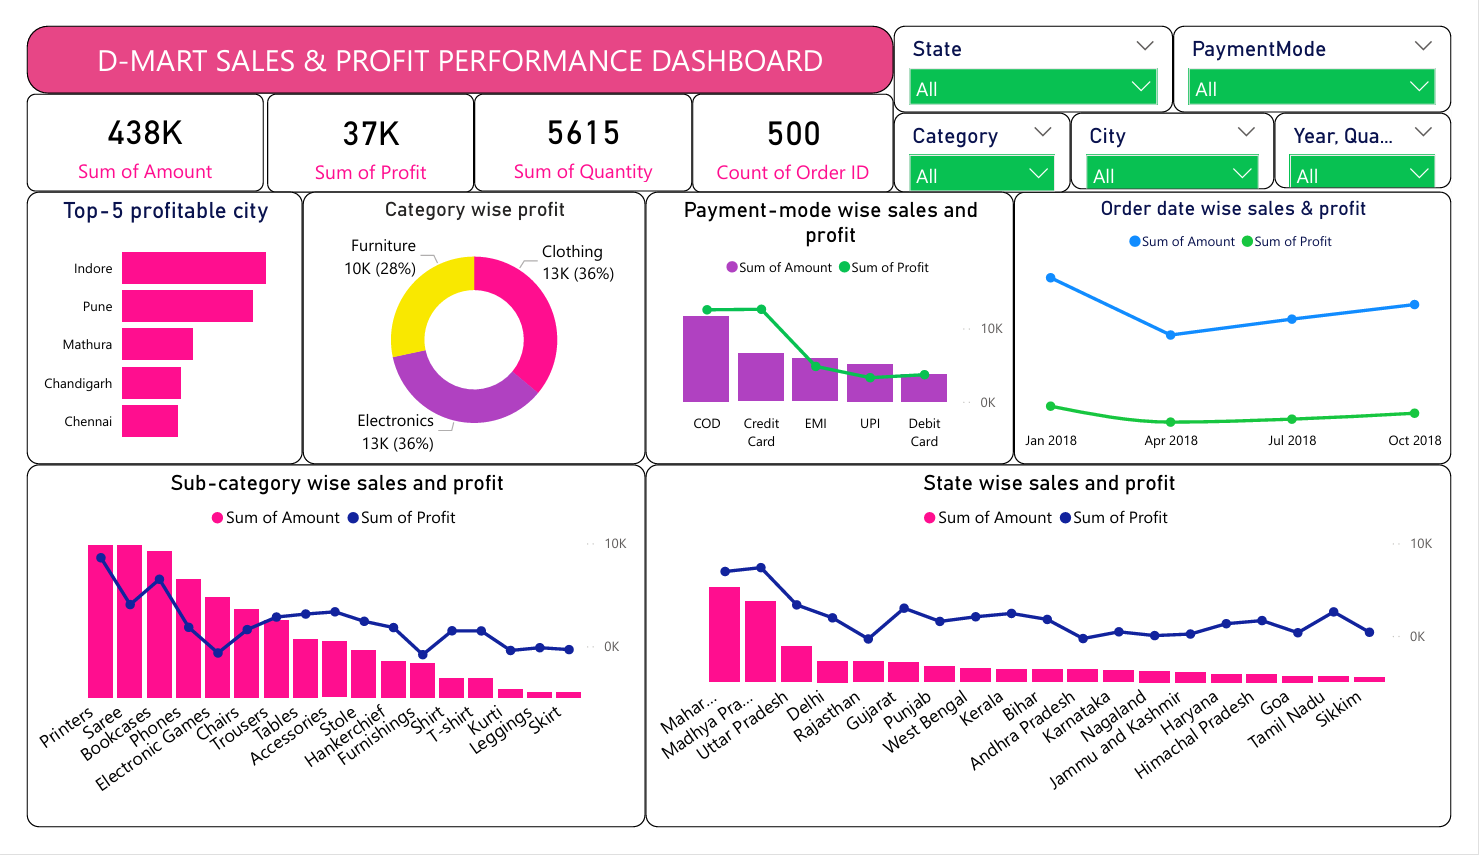

Layout of this report page (visuals, bound fields, positions):
{"tool":"powerbi","page":{"name":"DASHBOARD","canvas":[1280,720],"ordinal":0},"visuals":[{"type":"lineClusteredColumnComboChart","title":"State wise sales and profit","fields":{"Category":["Order_data.State"],"Y":["Sum(Sales_data.Amount)"],"Y2":["Sum(Sales_data.Profit)"]},"box":[556.4,393.8,723.9,326.5],"z":0},{"type":"lineChart","title":"Order date wise sales & profit","fields":{"Y":["Sum(Sales_data.Amount)","Sum(Sales_data.Profit)"],"Category":["Order_data.Order Date.Variation.Date Hierarchy.Year","Order_data.Order Date.Variation.Date Hierarchy.Quarter","Order_data.Order Date.Variation.Date Hierarchy.Month"]},"box":[886.6,149.2,393.8,244.6],"z":1000},{"type":"card","fields":{"Values":["Sum(Sales_data.Profit)"]},"box":[216.4,61.1,185.9,89.3],"z":2000},{"type":"card","fields":{"Values":["Sum(Sales_data.Amount)"]},"box":[0,61.1,212.8,88],"z":3000},{"type":"card","fields":{"Values":["Sum(Sales_data.Quantity)"]},"box":[402.3,61.1,195.7,88],"z":4000},{"type":"card","fields":{"Values":["CountNonNull(Order_data.Order ID)"]},"box":[598,61.1,181,89.3],"z":5000},{"type":"slicer","fields":{"Values":["Order_data.State"]},"box":[778.9,0,250.7,78.3],"z":6000},{"type":"slicer","fields":{"Values":["Order_data.City"]},"box":[937.9,78.3,183.4,68.5],"z":7000},{"type":"slicer","fields":{"Values":["Order_data.Order Date.Variation.Date Hierarchy.Year","Order_data.Order Date.Variation.Date Hierarchy.Quarter","Order_data.Order Date.Variation.Date Hierarchy.Month"]},"box":[1121.3,78.3,159,67.3],"z":8000},{"type":"slicer","fields":{"Values":["Sales_data.Category"]},"box":[778.9,78.3,159,72.1],"z":9000},{"type":"clusteredBarChart","title":"Top-5 profitable city","fields":{"Category":["Order_data.City"],"Y":["Sum(Sales_data.Profit)"]},"box":[0,149.2,248.2,244.6],"z":10000},{"type":"slicer","fields":{"Values":["Sales_data.PaymentMode"]},"box":[1029.6,0,250.7,78.3],"z":11000},{"type":"lineClusteredColumnComboChart","title":"Sub-category wise sales and profit","fields":{"Y":["Sum(Sales_data.Amount)"],"Y2":["Sum(Sales_data.Profit)"],"Category":["Sales_data.Sub-Category"]},"box":[0,393.8,556.4,326.5],"z":12000},{"type":"lineClusteredColumnComboChart","title":"Payment-mode wise sales and profit","fields":{"Y":["Sum(Sales_data.Amount)"],"Y2":["Sum(Sales_data.Profit)"],"Category":["Sales_data.PaymentMode"]},"box":[556.4,149.2,330.2,244.6],"z":13000},{"type":"donutChart","title":"Category wise profit","fields":{"Category":["Sales_data.Category"],"Y":["Sum(Sales_data.Profit)"]},"box":[248.2,149.2,308.2,244.6],"z":14000},{"type":"textbox","box":[0,0,778.9,61.1],"z":15000}]}

Visuals, with their boxes in screenshot pixels (x1, y1, x2, y2), scaled from the page's 1280x720 canvas onto the 1479x855 screenshot:
"State wise sales and profit" lineClusteredColumnComboChart: {"left": 643, "top": 468, "right": 1478, "bottom": 854}
"Order date wise sales & profit" lineChart: {"left": 1024, "top": 177, "right": 1478, "bottom": 468}
card - Sum(Sales_data.Profit): {"left": 250, "top": 73, "right": 465, "bottom": 179}
card - Sum(Sales_data.Amount): {"left": 0, "top": 73, "right": 246, "bottom": 177}
card - Sum(Sales_data.Quantity): {"left": 465, "top": 73, "right": 691, "bottom": 177}
card - CountNonNull(Order_data.Order ID): {"left": 691, "top": 73, "right": 900, "bottom": 179}
slicer - Order_data.State: {"left": 900, "top": 0, "right": 1190, "bottom": 93}
slicer - Order_data.City: {"left": 1084, "top": 93, "right": 1296, "bottom": 174}
slicer - Order_data.Order Date.Variation.Date Hierarchy.Year x Order_data.Order Date.Variation.Date Hierarchy.Quarter: {"left": 1296, "top": 93, "right": 1478, "bottom": 173}
slicer - Sales_data.Category: {"left": 900, "top": 93, "right": 1084, "bottom": 179}
"Top-5 profitable city" clusteredBarChart: {"left": 0, "top": 177, "right": 287, "bottom": 468}
slicer - Sales_data.PaymentMode: {"left": 1190, "top": 0, "right": 1478, "bottom": 93}
"Sub-category wise sales and profit" lineClusteredColumnComboChart: {"left": 0, "top": 468, "right": 643, "bottom": 854}
"Payment-mode wise sales and profit" lineClusteredColumnComboChart: {"left": 643, "top": 177, "right": 1024, "bottom": 468}
"Category wise profit" donutChart: {"left": 287, "top": 177, "right": 643, "bottom": 468}
textbox: {"left": 0, "top": 0, "right": 900, "bottom": 73}
